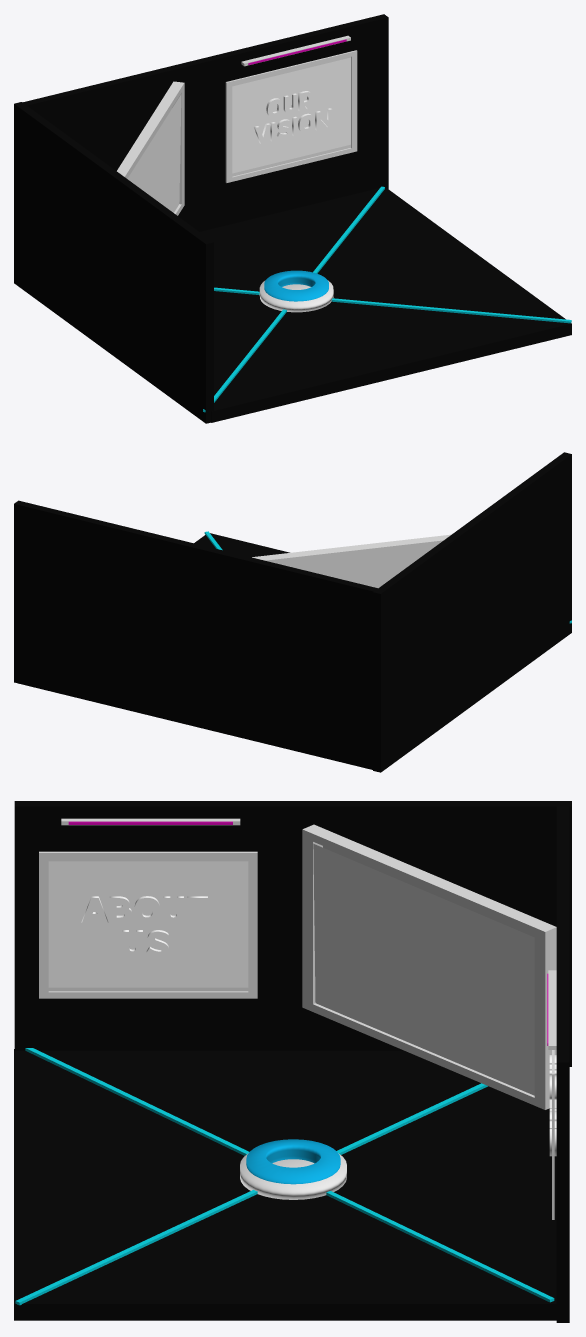
The model's file is about-acses.glb.
3 renders of one model, top to bottom at view 1: azimuth 30°, elevation 25°; view 2: azimuth 150°, elevation 25°; view 3: azimuth 270°, elevation 25°, orthographic. The views are drawn at different scales.
Parts seen in each view (by area): view 1: Floor_Base, Wall_Left, Wall_Right, Plane_Vision, Case_Vision, Plane_Video, Case_Video, Vision_svg, Cyan_Light_Cylinder, Cyan_Light_2, Cyan_Light_1, Cyan_Light_Base; view 2: Wall_Right, Wall_Left, Case_Video, Floor_Base; view 3: Floor_Base, Wall_Left, Plane_Video, Plane_About, Case_Video, Case_About, Wall_Right, Cyan_Light_Cylinder, About_svg, Cyan_Light_1, Cyan_Light_2, Cyan_Light_Base (+3 smaller).
Boxes of the visible parts, x1=… form: Floor_Base: x1=200, y1=186, x2=571, y2=422; Wall_Left: x1=14, y1=102, x2=213, y2=423; Wall_Right: x1=23, y1=14, x2=388, y2=231; Plane_Vision: x1=232, y1=57, x2=350, y2=173; Case_Vision: x1=225, y1=50, x2=357, y2=182; Plane_Video: x1=127, y1=94, x2=181, y2=212; Case_Video: x1=117, y1=81, x2=184, y2=215; Vision_svg: x1=254, y1=91, x2=332, y2=143; Cyan_Light_Cylinder: x1=264, y1=270, x2=328, y2=301; Cyan_Light_2: x1=214, y1=287, x2=571, y2=323; Cyan_Light_1: x1=203, y1=186, x2=384, y2=412; Cyan_Light_Base: x1=259, y1=280, x2=333, y2=312; Wall_Right: x1=14, y1=500, x2=377, y2=769; Wall_Left: x1=373, y1=452, x2=571, y2=772; Case_Video: x1=252, y1=534, x2=450, y2=588; Floor_Base: x1=194, y1=533, x2=289, y2=557; Floor_Base: x1=14, y1=1049, x2=556, y2=1320; Wall_Left: x1=14, y1=801, x2=571, y2=1066; Plane_Video: x1=313, y1=843, x2=534, y2=1095; Plane_About: x1=48, y1=861, x2=248, y2=987; Case_Video: x1=302, y1=824, x2=556, y2=1109; Case_About: x1=39, y1=851, x2=257, y2=998; Wall_Right: x1=556, y1=806, x2=569, y2=1322; Cyan_Light_Cylinder: x1=246, y1=1139, x2=340, y2=1184; About_svg: x1=81, y1=896, x2=207, y2=957; Cyan_Light_1: x1=25, y1=1048, x2=554, y2=1302; Cyan_Light_2: x1=15, y1=1083, x2=487, y2=1305; Cyan_Light_Base: x1=240, y1=1153, x2=346, y2=1199.
Size of the model in its own units: 36.66 by 16.97 by 32.92.
